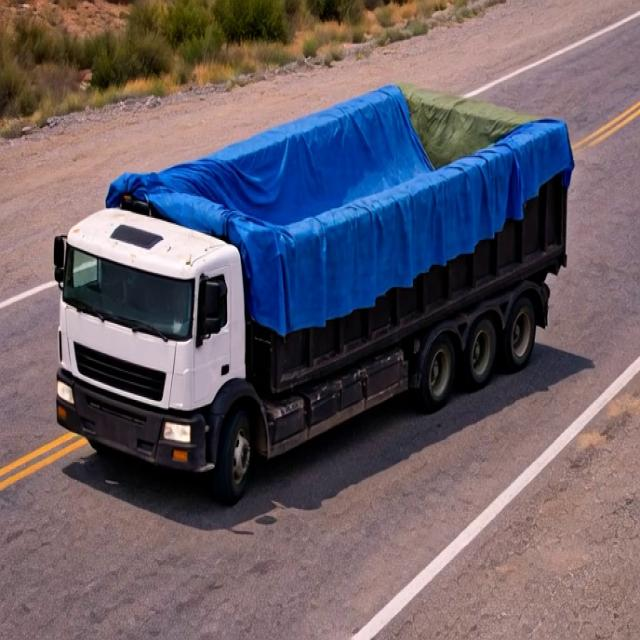trailer: (113, 88, 589, 262)
truck: (48, 49, 601, 508)
